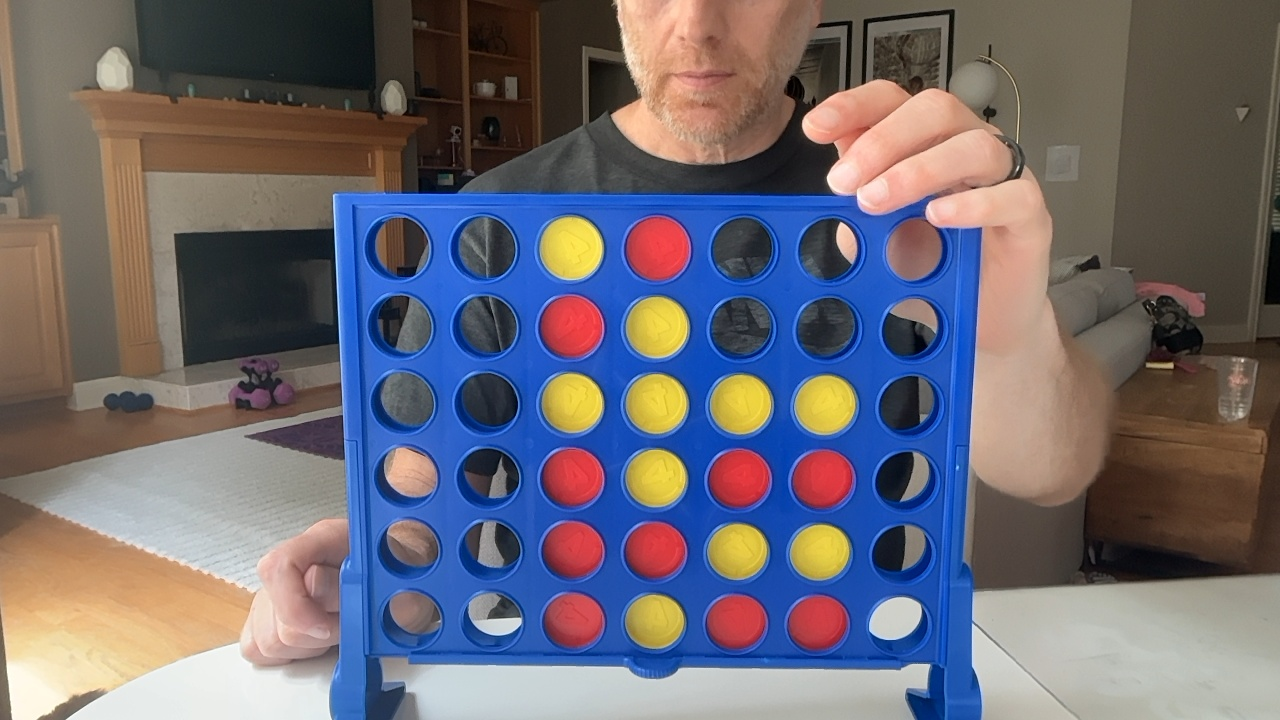red piece: (625, 216, 690, 281), (539, 295, 603, 358), (542, 448, 603, 508), (708, 449, 770, 508), (792, 450, 853, 509), (624, 522, 686, 580), (542, 521, 602, 579), (543, 593, 604, 649), (787, 595, 848, 651), (706, 595, 766, 651)
yellow piece: (539, 216, 603, 280), (625, 296, 689, 359), (625, 373, 688, 434), (710, 374, 772, 434), (794, 375, 856, 435), (541, 373, 603, 432), (624, 449, 687, 507), (624, 594, 685, 650), (790, 524, 850, 580), (707, 524, 767, 579)
